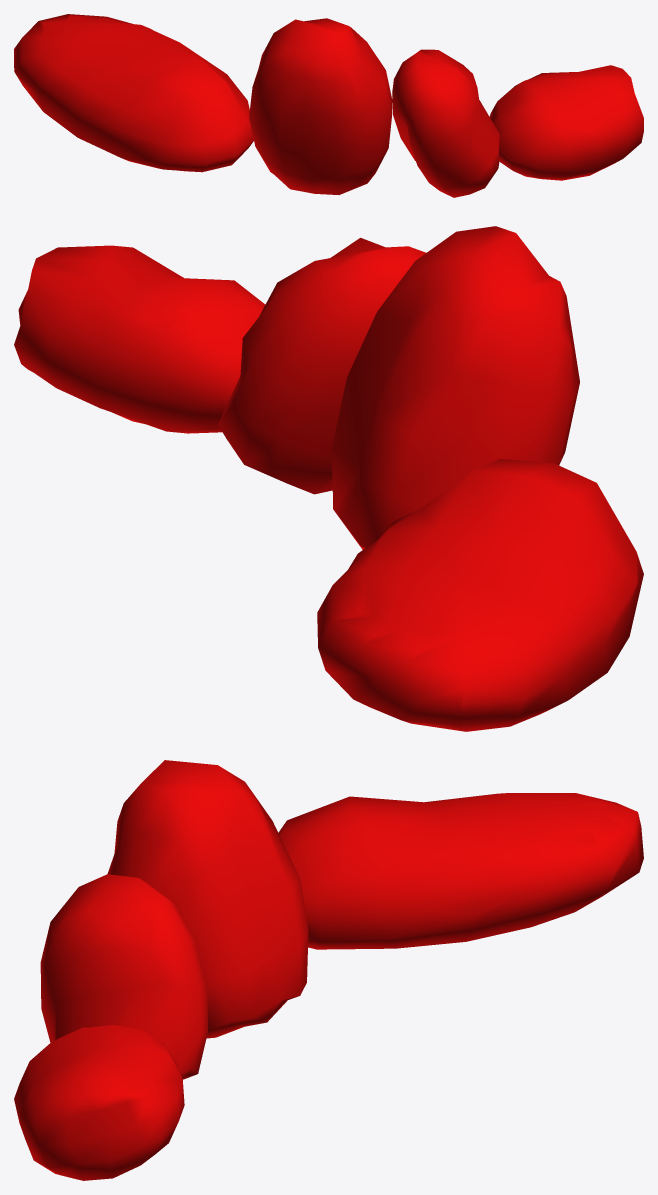
File: Stones.fbx
The picture shows the model from 3 angles, top to bottom: view 1: azimuth 30°, elevation 25°; view 2: azimuth 150°, elevation 25°; view 3: azimuth 270°, elevation 25°; orthographic projection. The views are drawn at different scales.
Parts seen in each view (by area): view 1: Stones; view 2: Stones; view 3: Stones.
Part boxes in pixels (<box>): Stones: <box>14,14,643,197</box>; Stones: <box>14,226,643,731</box>; Stones: <box>14,760,643,1180</box>.
Bounding box in the file's own units: 3.87 × 1.49 × 3.39.
